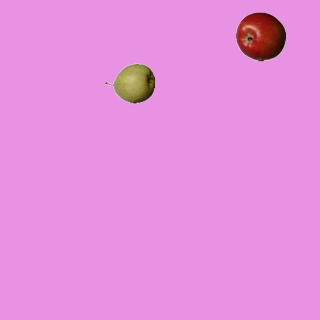Apple Braeburn: (235, 11, 285, 61)
Pear: (104, 58, 154, 108)
